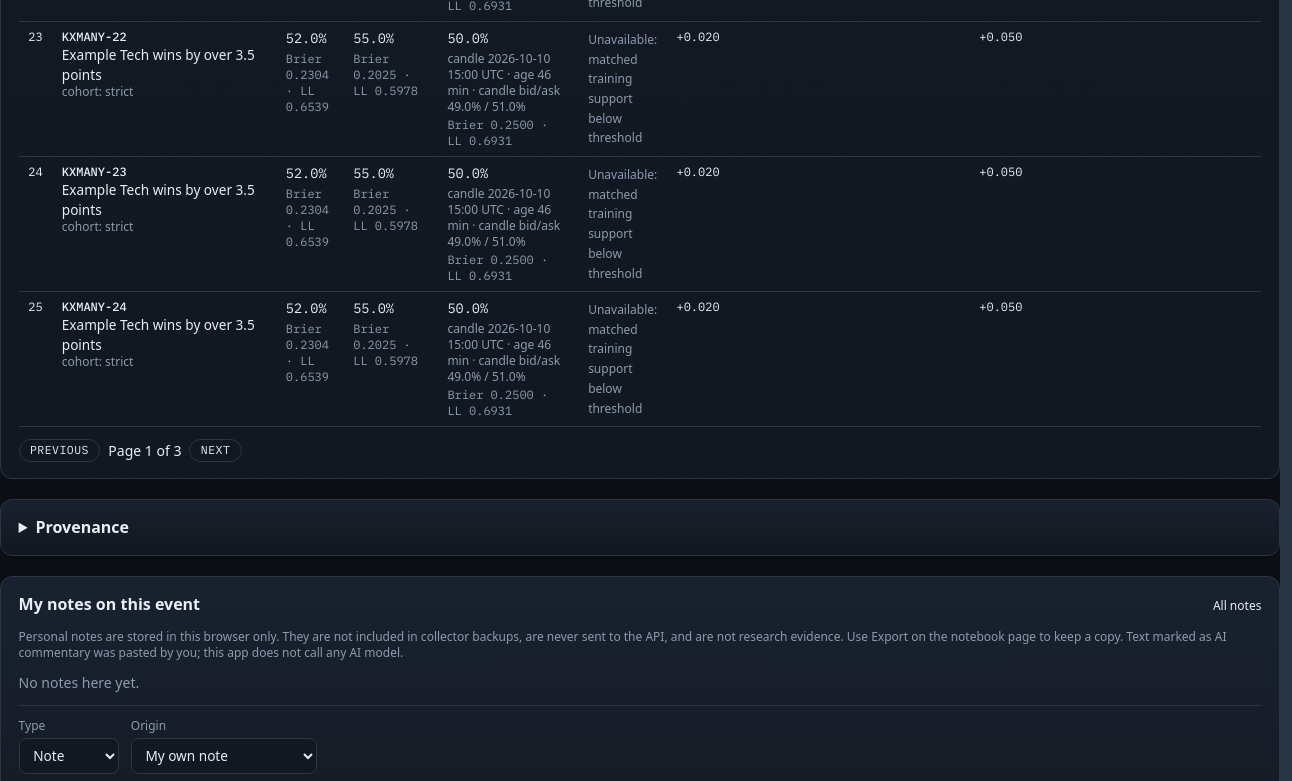
Test: Sports event detail › paginates large contract families instead of rendering every strike
(page scrolled)
Click the button "Next": (216,451) [189,439,242,462]
(page scrolled)
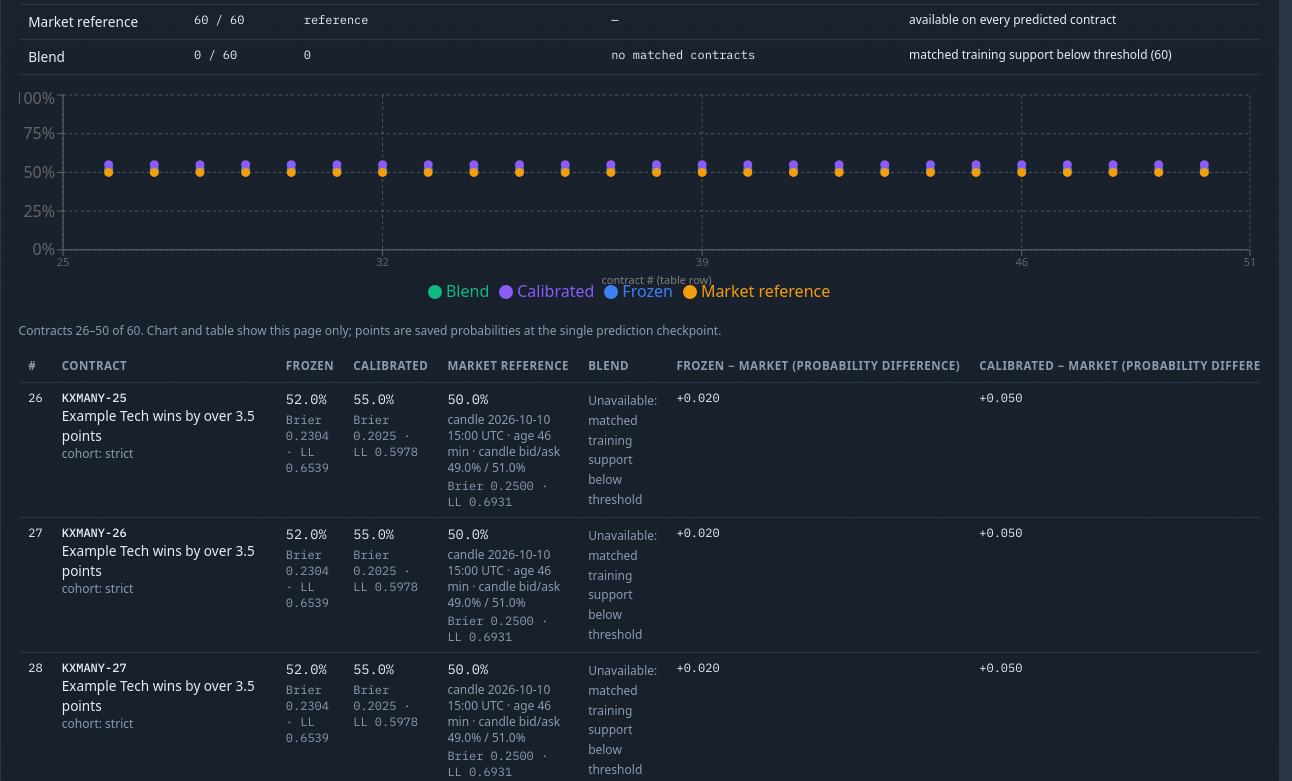
Expected: the text "Contracts 26–50 of 60" is shown, [19,322,721,339]
Expected: the cell "26" is shown, [19,382,52,518]
